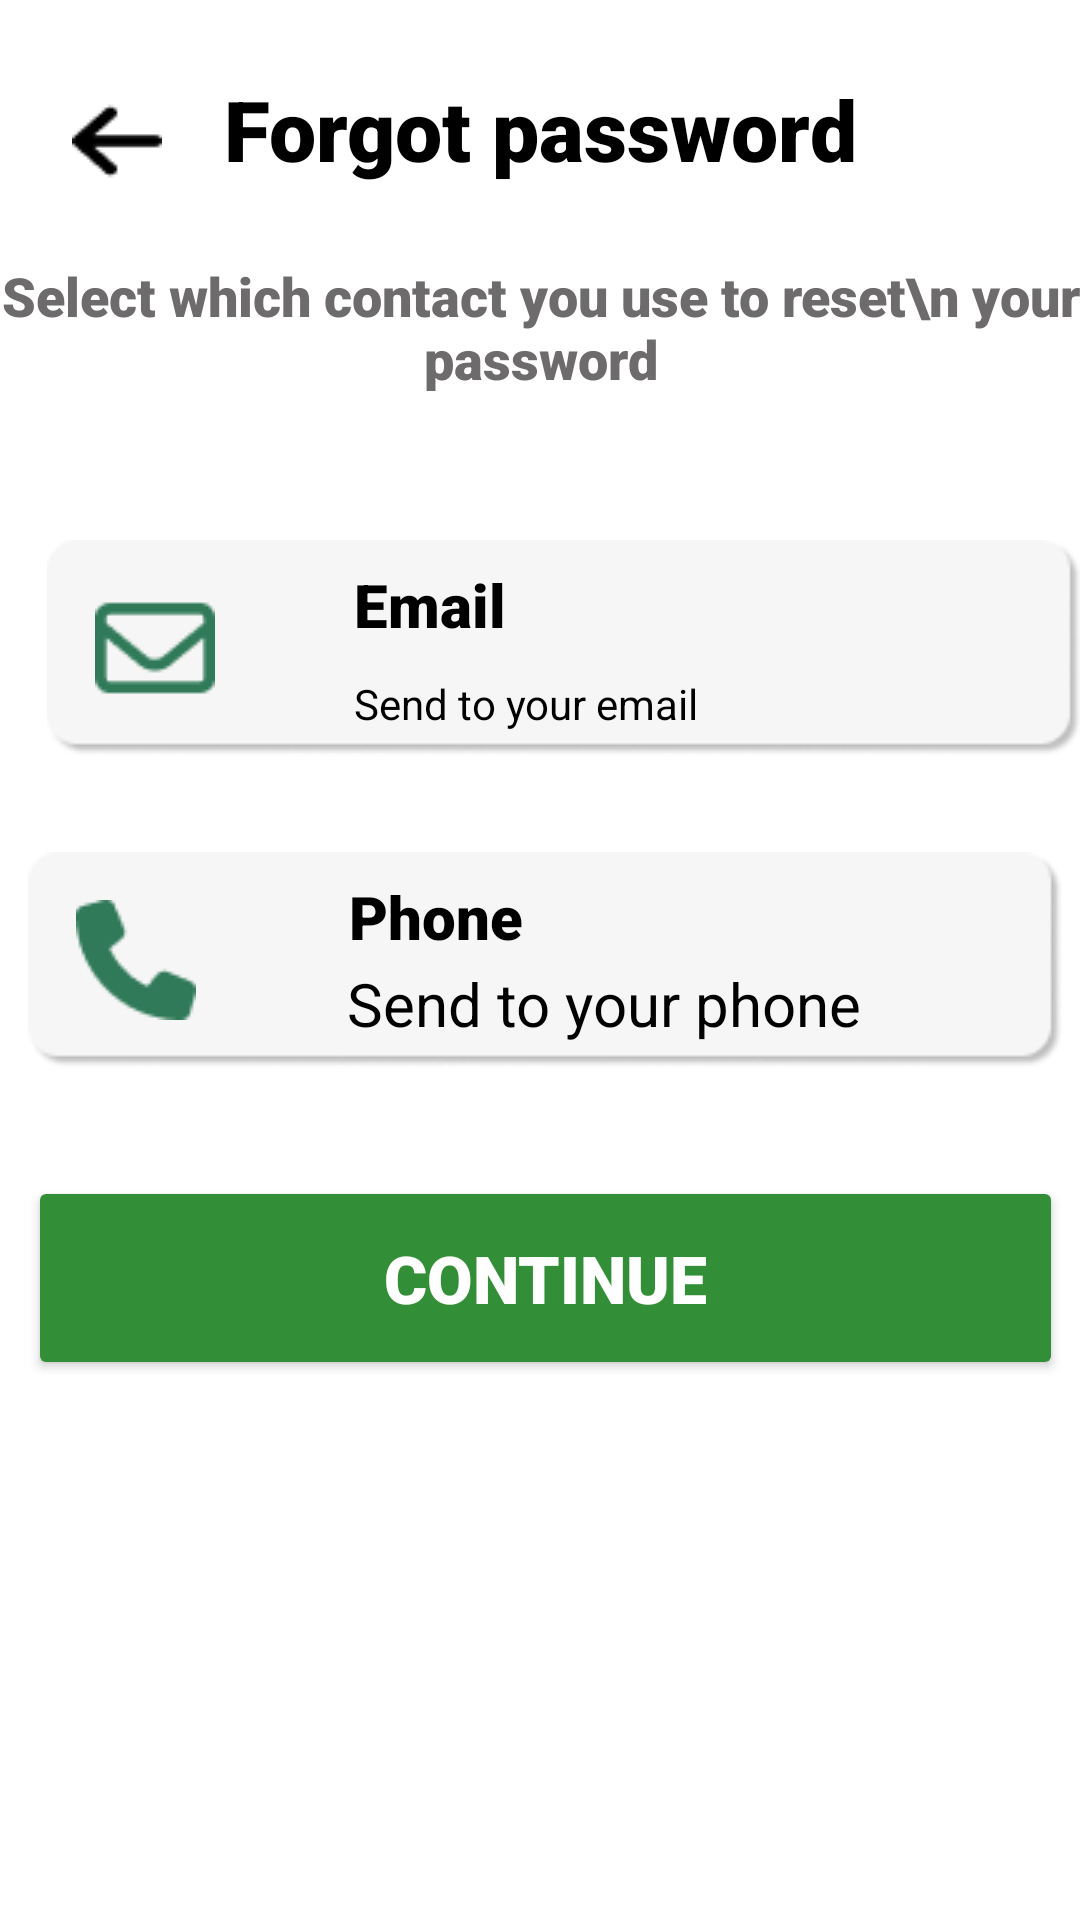

Icons on this 1080x1920 Android screen, each with its box as rect(x1, y1, x2, y2):
arrow left: rect(72, 105, 162, 177)
gmail: rect(95, 602, 215, 694)
phone: rect(76, 900, 196, 1020)
